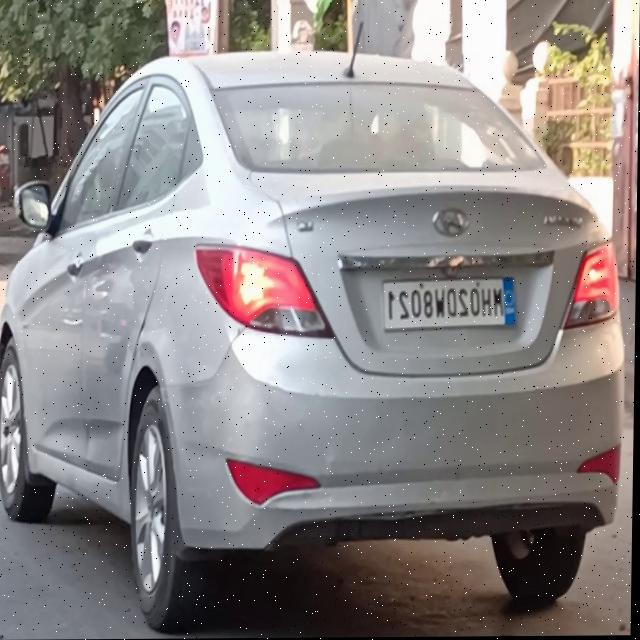plate: (382, 274, 520, 336)
